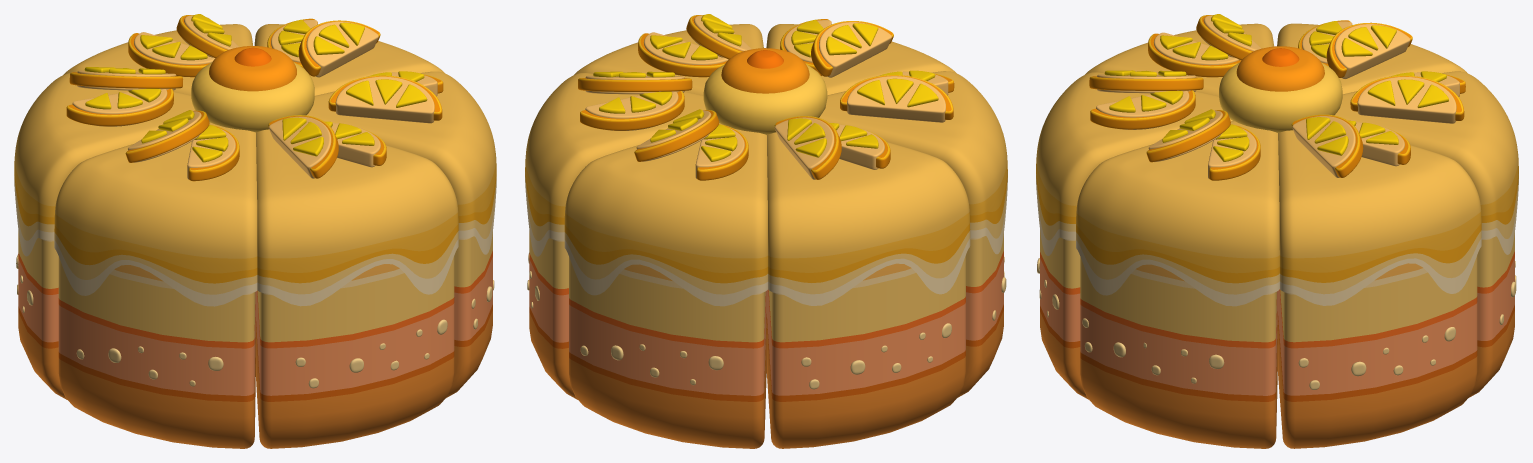
The model's file is YellowCake.fbx.
3 views of the same model, side by side, from view 1: azimuth 30°, elevation 25°; view 2: azimuth 150°, elevation 25°; view 3: azimuth 270°, elevation 25° (orthographic).
Parts seen in each view (by area): view 1: Yellow; view 2: Yellow; view 3: Yellow.
Boxes of the visible parts, left/top/right/bottom form: Yellow: left=14, top=14, right=496, bottom=448; Yellow: left=525, top=14, right=1007, bottom=448; Yellow: left=1036, top=14, right=1518, bottom=448.
Bounding box in the file's own units: 58.19 × 41.75 × 58.13.
1 material, 1 textured.
